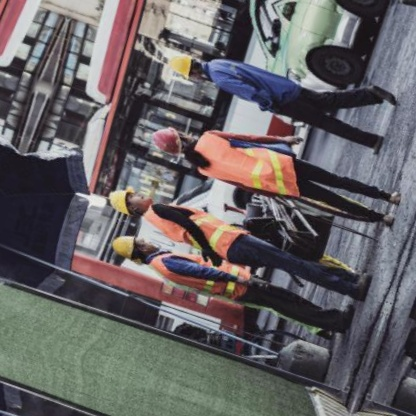red: (145, 119, 189, 162)
vest: (182, 112, 320, 210), (136, 189, 257, 270), (147, 238, 256, 311)
yellow: (102, 178, 140, 219), (160, 47, 199, 85), (104, 229, 143, 264)
